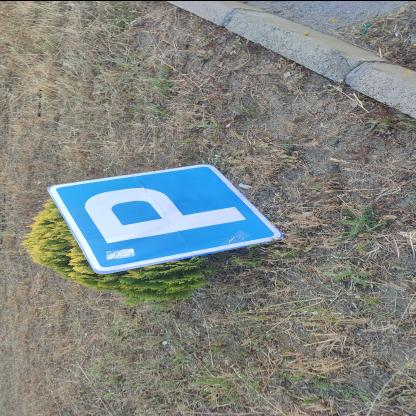Parking-Sign: (47, 163, 285, 275)
